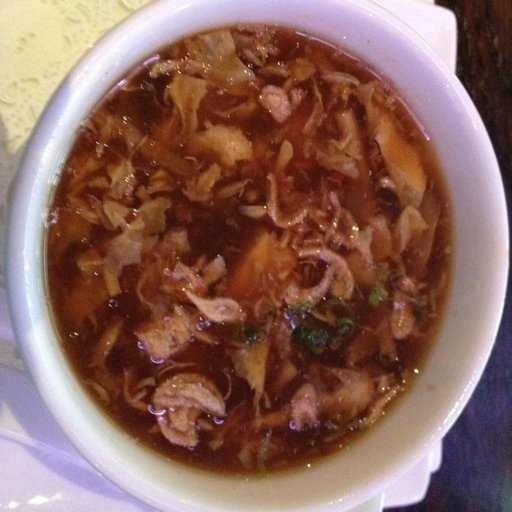soup: (38, 35, 465, 475)
